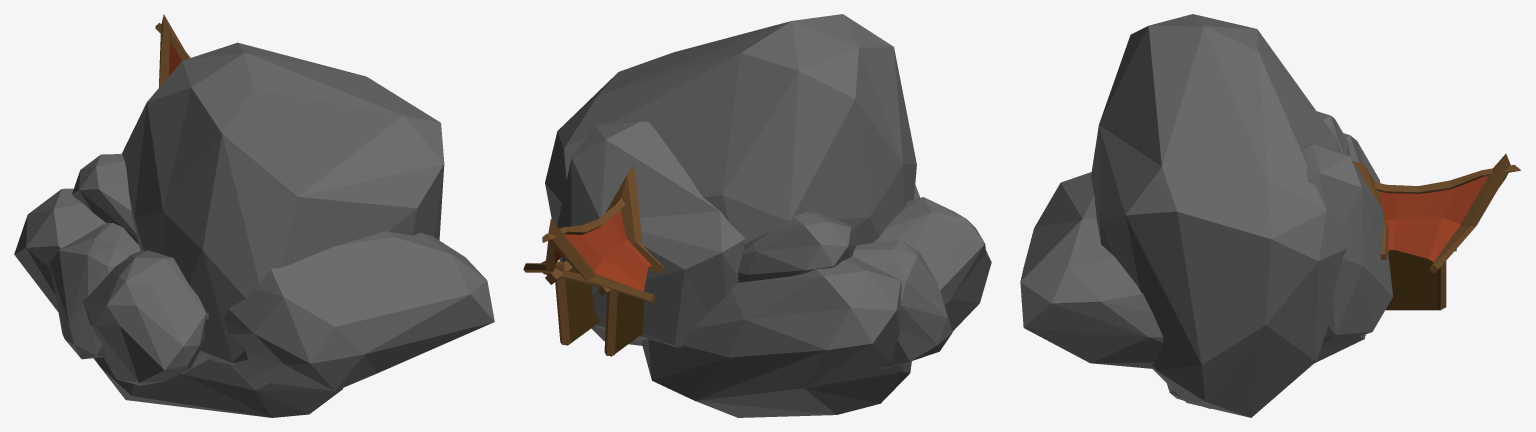
Rendered from Quarry.fbx.
The picture shows the model from 3 angles, left to right: view 1: azimuth 30°, elevation 25°; view 2: azimuth 150°, elevation 25°; view 3: azimuth 270°, elevation 25°; orthographic projection. The views are drawn at different scales.
Parts seen in each view (by area): view 1: Cylinder; view 2: Cylinder; view 3: Cylinder.
Boxes of the visible parts, x1,y1,x2,y2 form: Cylinder: [14, 14, 494, 417]; Cylinder: [523, 14, 991, 417]; Cylinder: [1020, 14, 1520, 417].
Size of the model in its own units: 1385 by 1373 by 1755.
